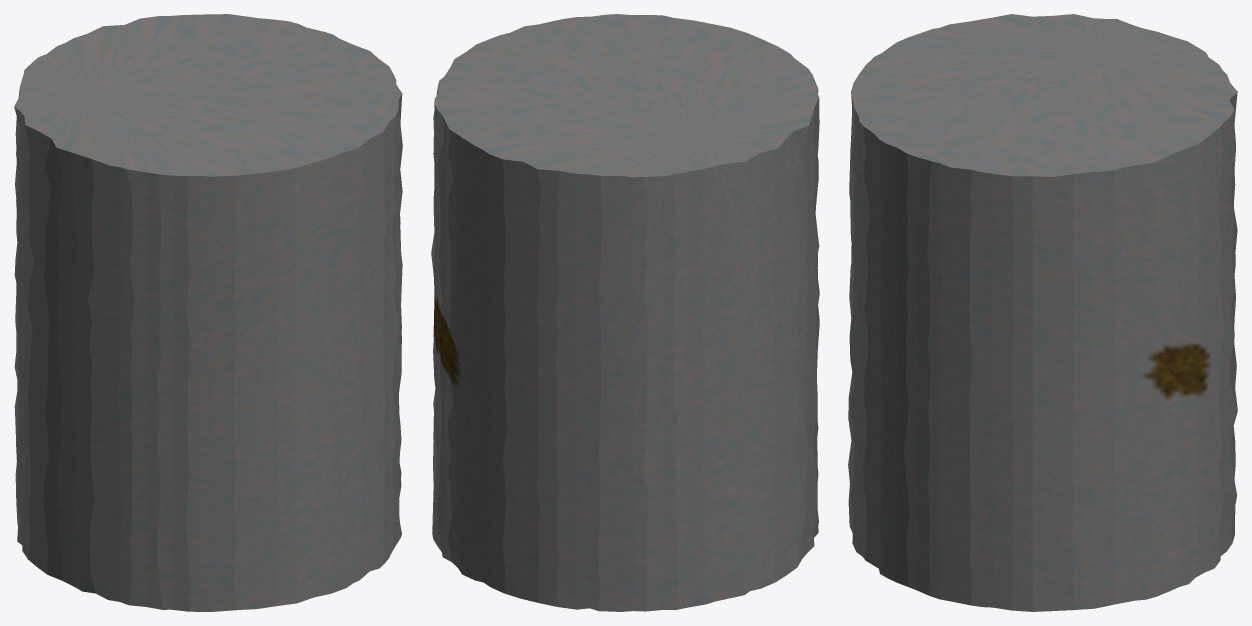
The model's file is barrel_45.dae.
The picture shows the model from 3 angles, left to right: view 1: azimuth 30°, elevation 25°; view 2: azimuth 150°, elevation 25°; view 3: azimuth 270°, elevation 25°; orthographic projection.
Visible parts, largest first — view 1: Cylinder; view 2: Cylinder; view 3: Cylinder.
Boxes of the visible parts, left/top/right/bottom form: Cylinder: left=14, top=14, right=402, bottom=611; Cylinder: left=431, top=14, right=819, bottom=611; Cylinder: left=848, top=14, right=1237, bottom=611.
Bounding box in the file's own units: 0.8195 × 0.813 × 1.
1 material, 1 textured.
